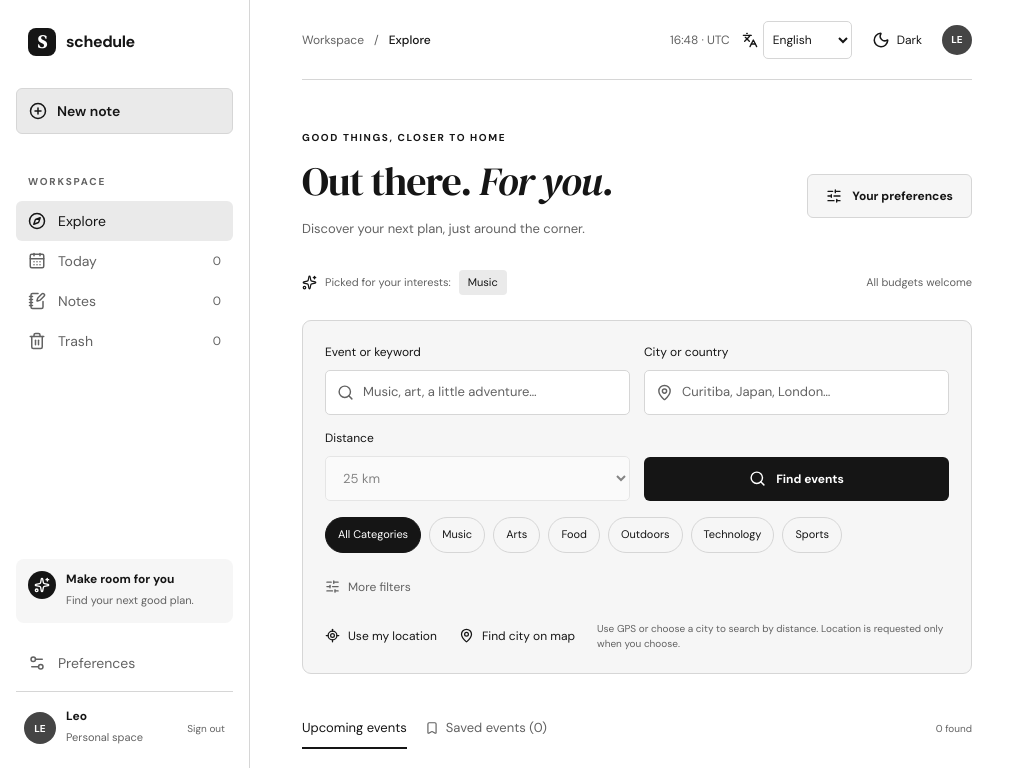
Test: post-login workspace › adds a discovered event on the correct day, prevents duplicates and supports removal
Type "São Paulo" into the dropdown labelled "City or country" at [796, 392], box [644,370,949,415]
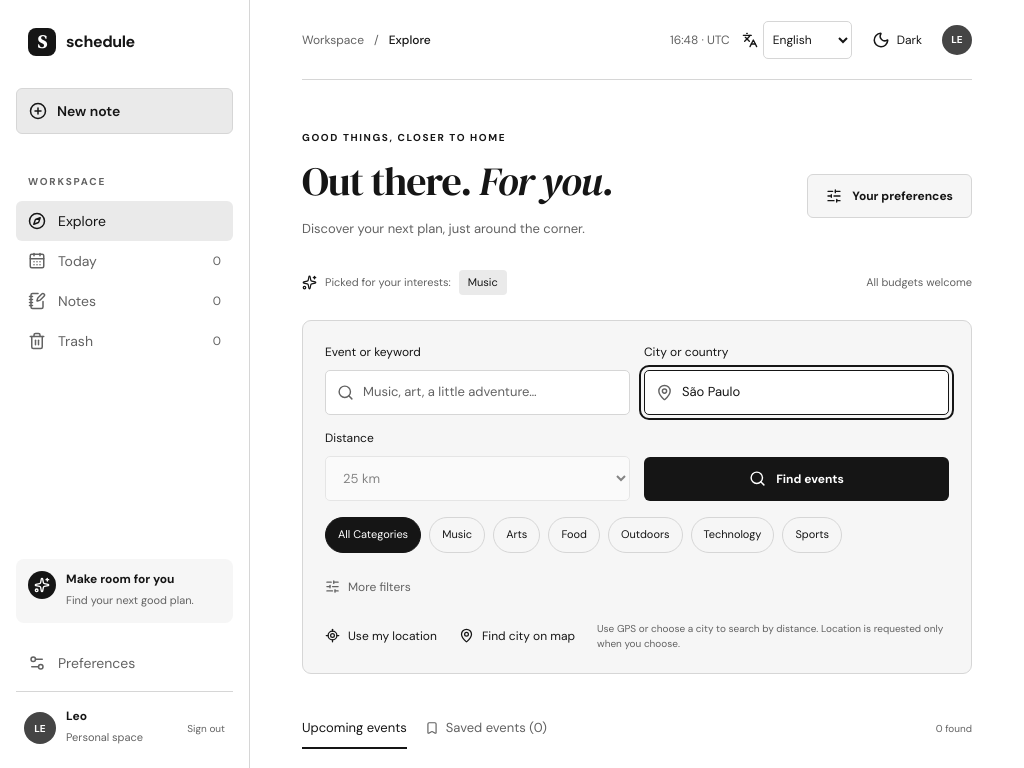
Click the button "Find events" at [796, 479], box [644,457,949,501]
(page scrolled)
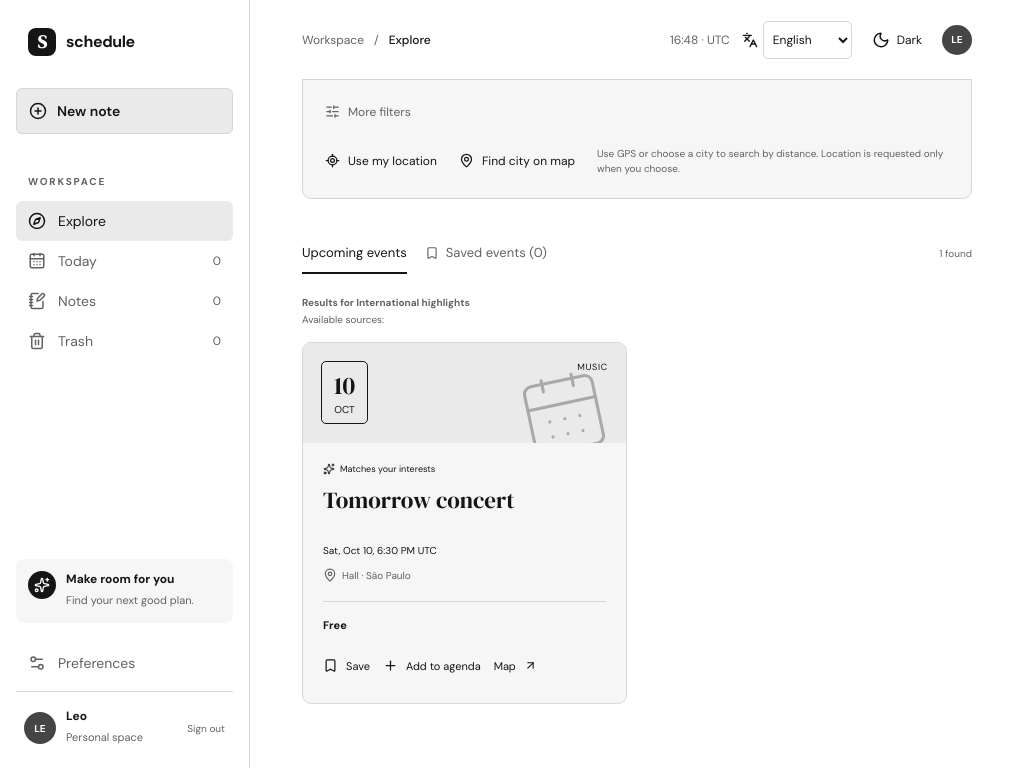
Click the button with aria-label "Add Tomorrow concert to agenda" at [432, 666], box [383,648,481,684]
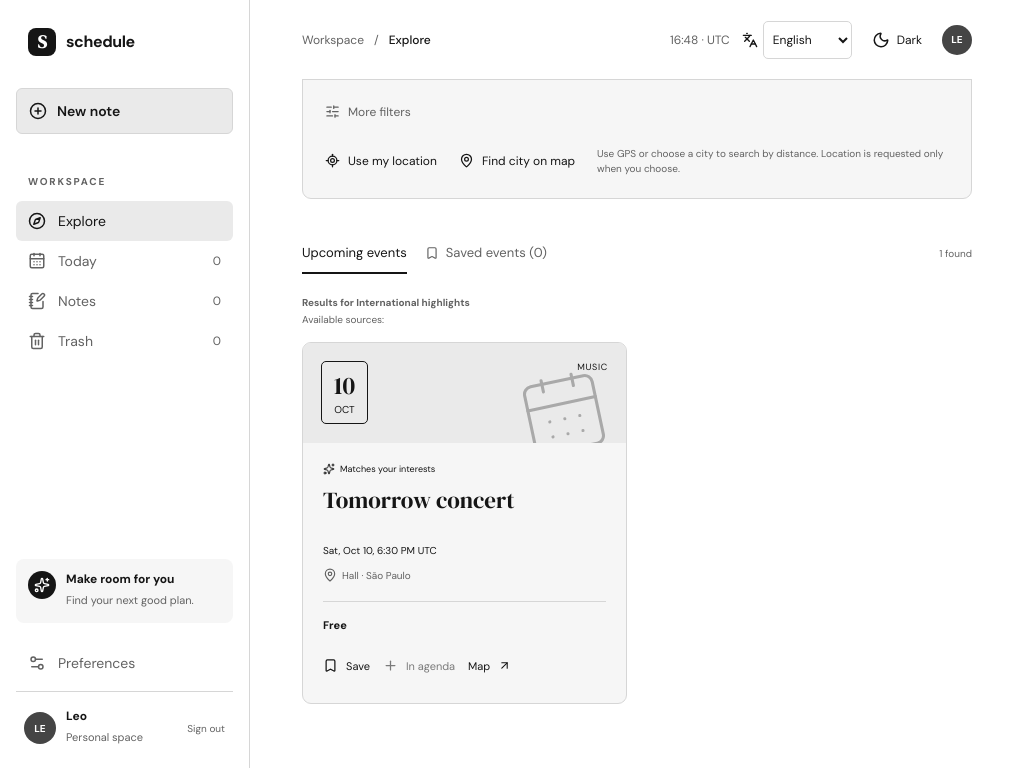
Check: the button with aria-label "Added Tomorrow concert to agenda" is disabled, box [383,648,455,684]
Click the button "Today 0" at [124, 261], box [16,241,233,281]
(page scrolled)
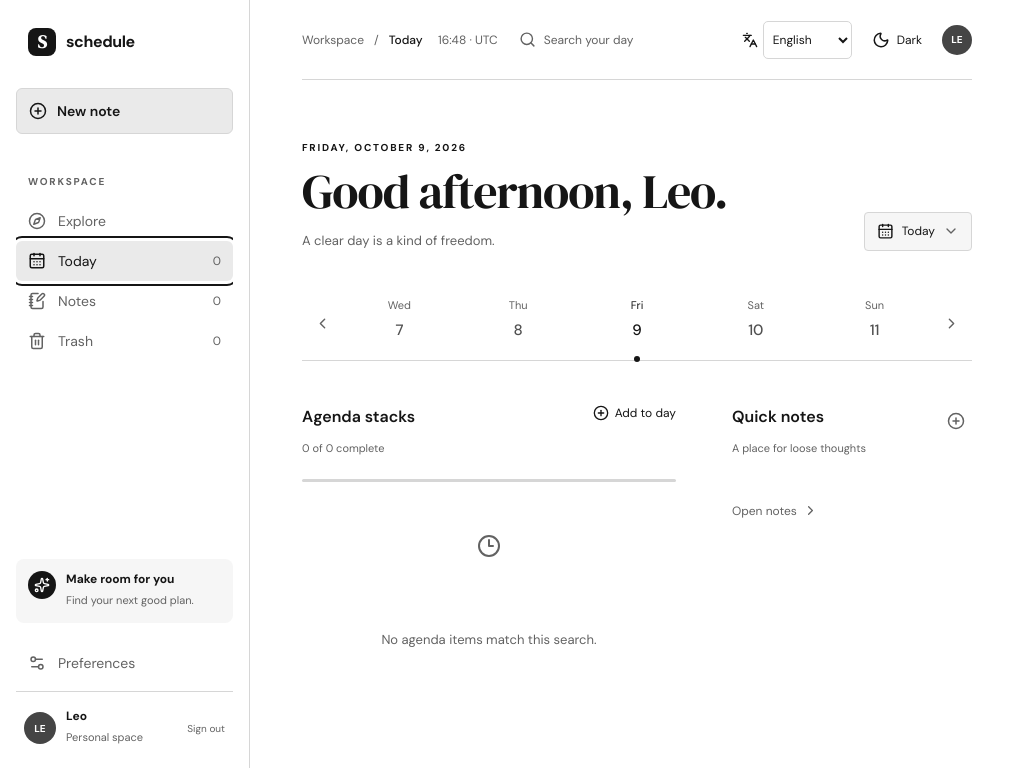
Check: the heading "Tomorrow concert" is gone
Click the button "Sat 10" at [756, 323], box [698,290,813,356]
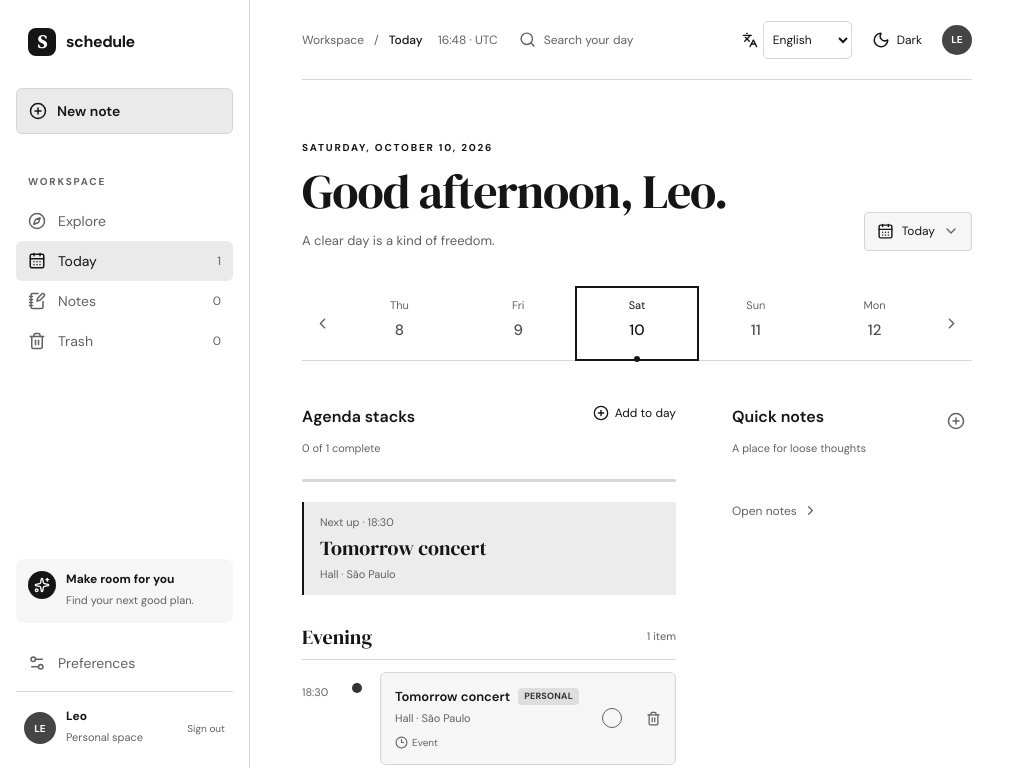
Check: the heading "Tomorrow concert" is shown, box [395,686,510,706]
Click the button named "Remove Tomorrow concert from agenda" at [654, 718], box [646,710,661,726]
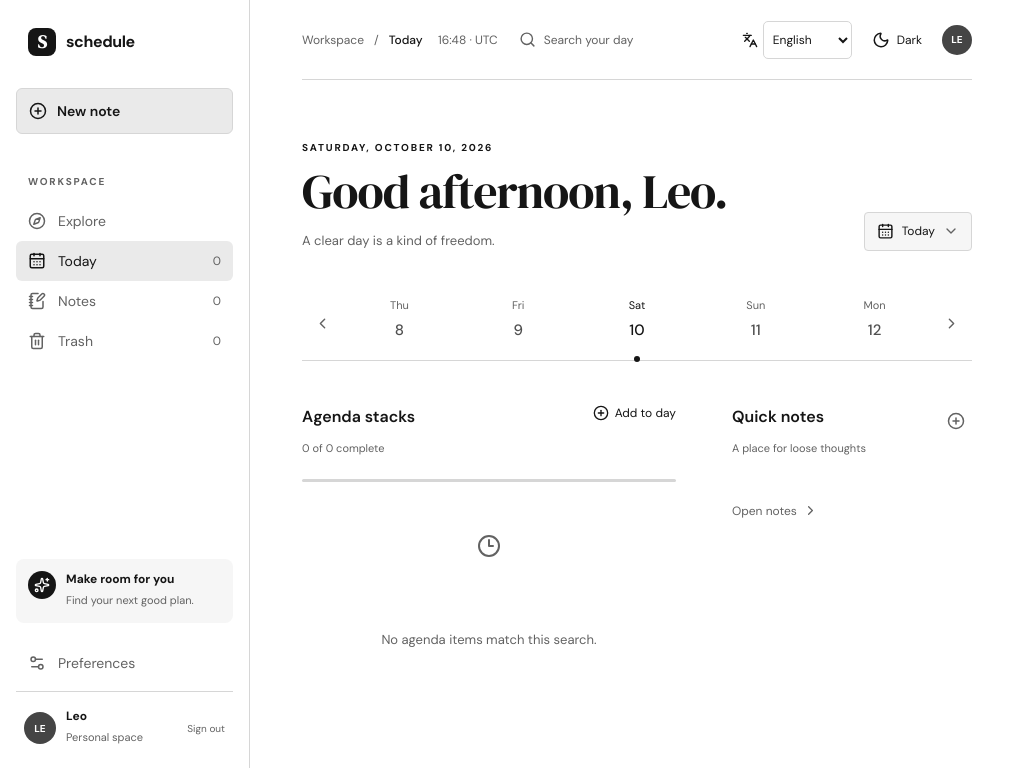
Check: the text "Tomorrow concert" is gone
